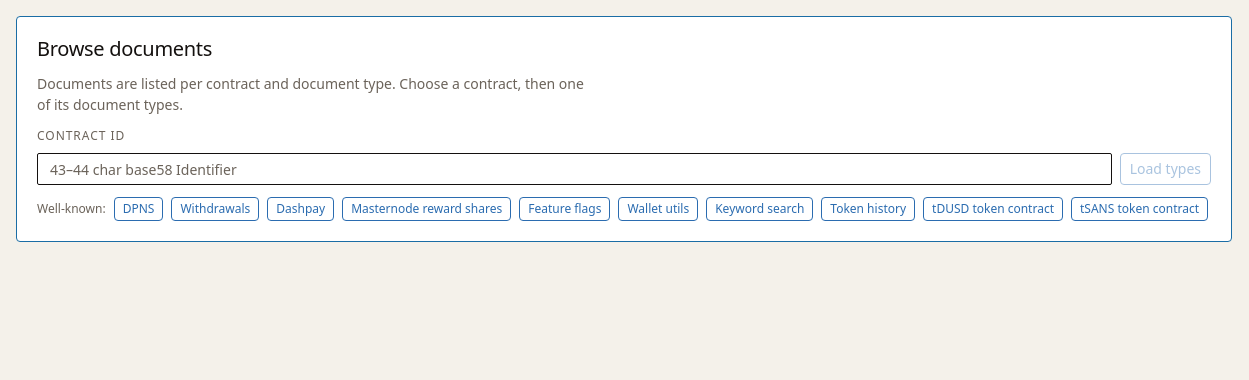
Test: documents landing › lists the chosen contract’s document types as links
This screenshot has width=1249, height=380.
Type "GWRSAVFMjXx8HpQFaNJMqBV7MBgMK4br5UESsB4S31Ec" into the field labelled "Contract ID" at (574, 169), box [37,153,1112,185]
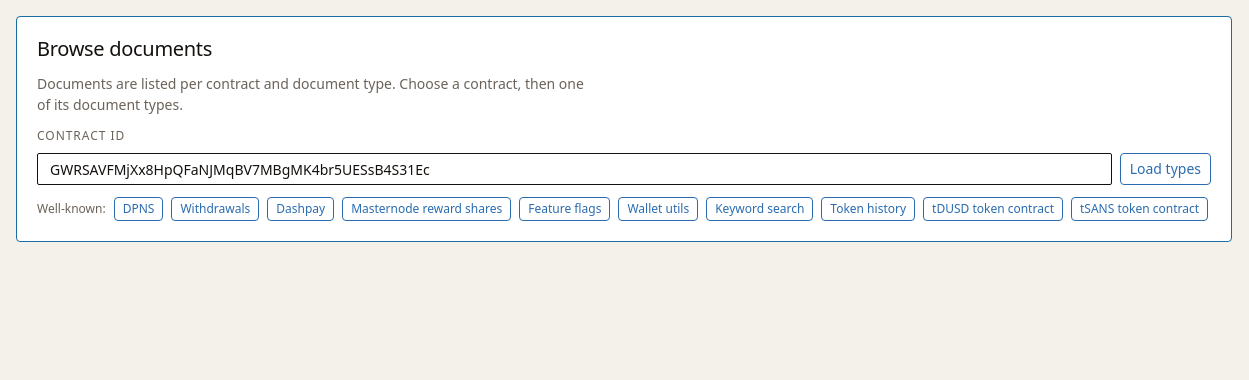
Click the button "Load types" at (1165, 169), box [1120,153,1211,185]
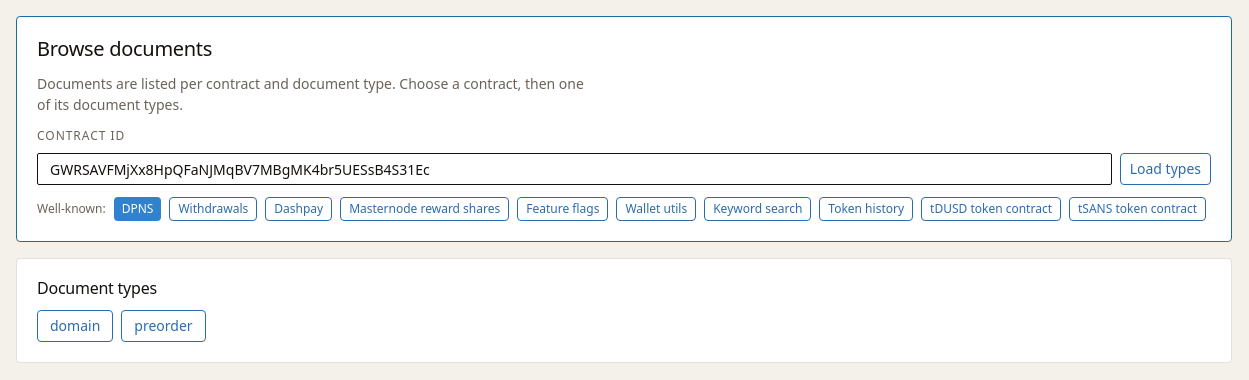
expect the link "preorder" is shown: met, box [121,310,206,342]
